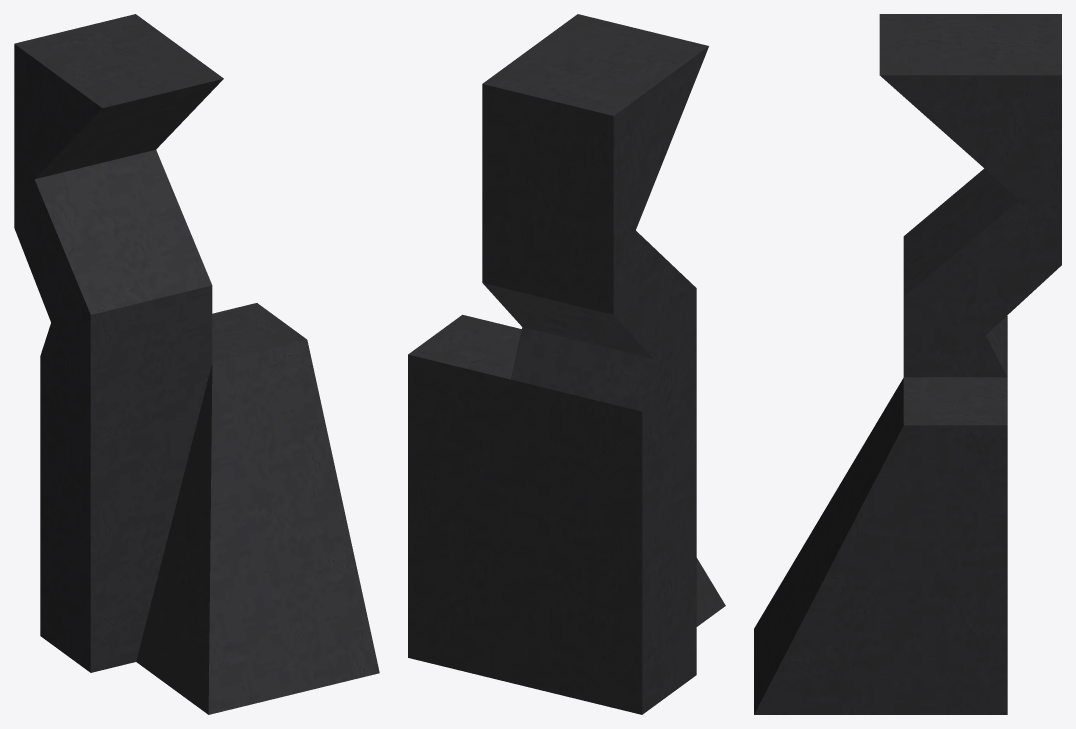
The model's file is strelec_cerna.glb.
The picture shows the model from 3 angles, left to right: view 1: azimuth 30°, elevation 25°; view 2: azimuth 150°, elevation 25°; view 3: azimuth 270°, elevation 25°; orthographic projection. The views are drawn at different scales.
Visible parts, largest first — view 1: strelec_cerna; view 2: strelec_cerna; view 3: strelec_cerna.
Boxes of the visible parts, box(x1,y1,x2,y2) form: strelec_cerna: box(14, 14, 379, 714); strelec_cerna: box(408, 14, 725, 714); strelec_cerna: box(754, 14, 1061, 714).
Size of the model in its own units: 0.0379 by 0.096 by 0.0453.
Materials: 1 (1 with a texture image).
